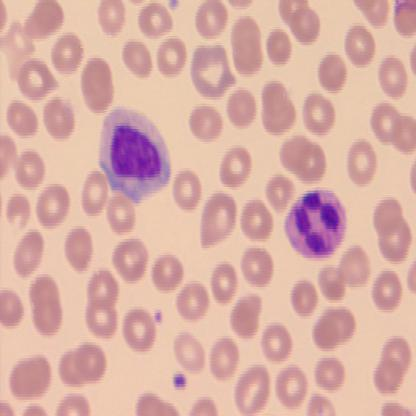Metamyelocyte: (96, 105, 174, 207)
